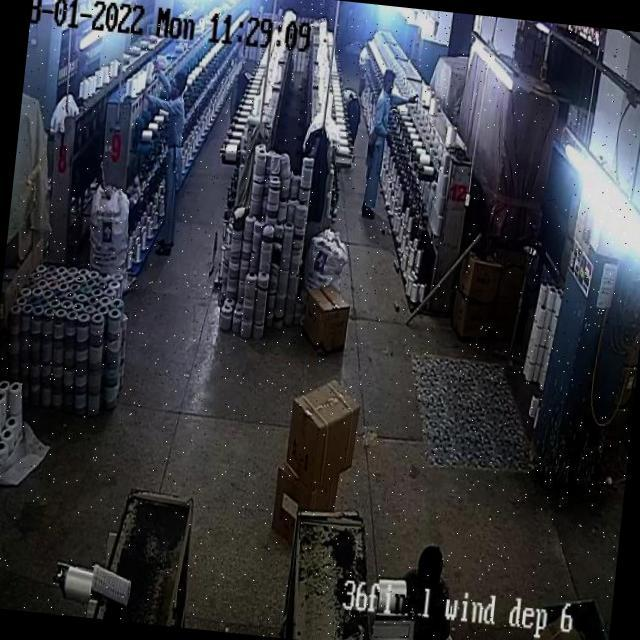person: (151, 70, 196, 246), (361, 60, 398, 227), (410, 541, 460, 634)
